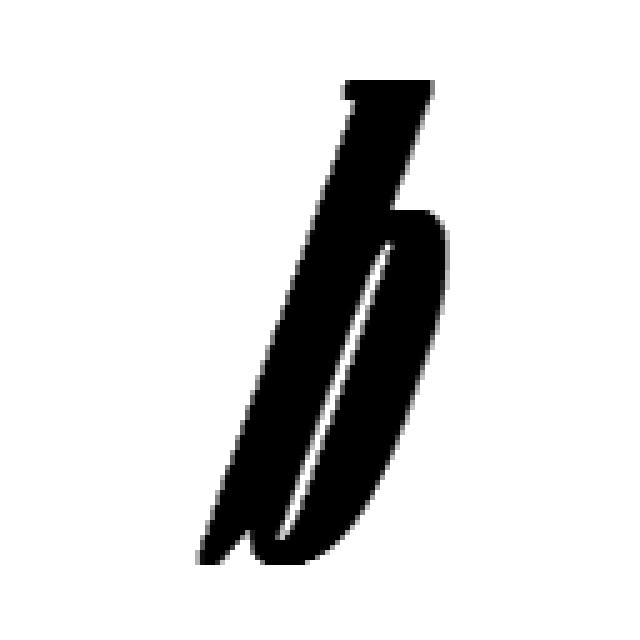B: (195, 80, 450, 570)
